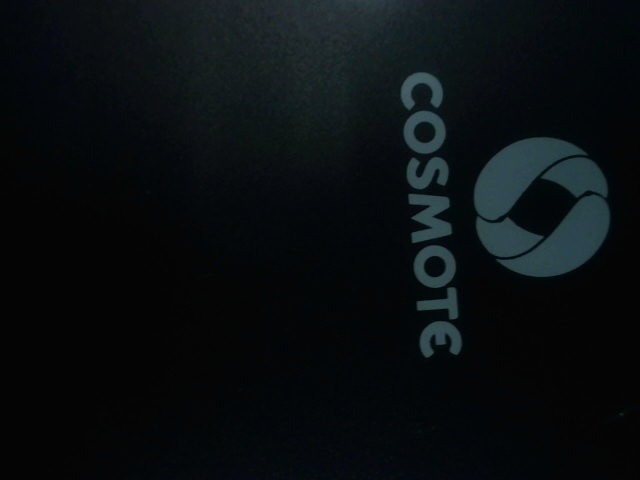AU_COSMOTE: (382, 70, 627, 369)
